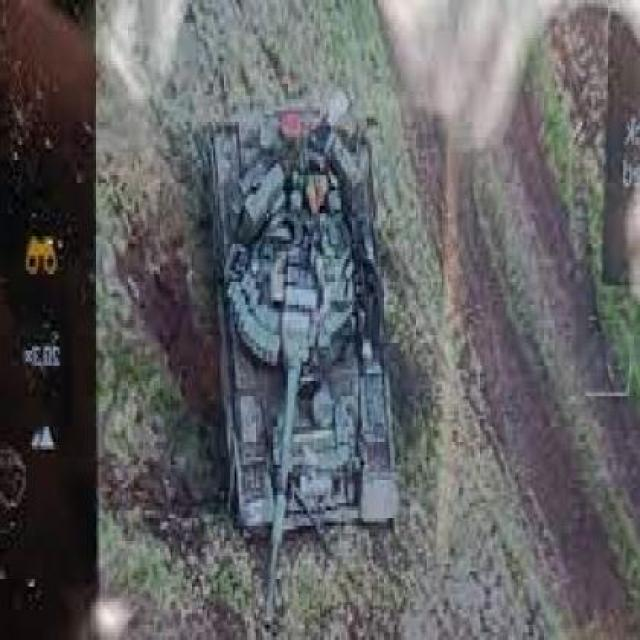tank: (206, 110, 399, 628)
